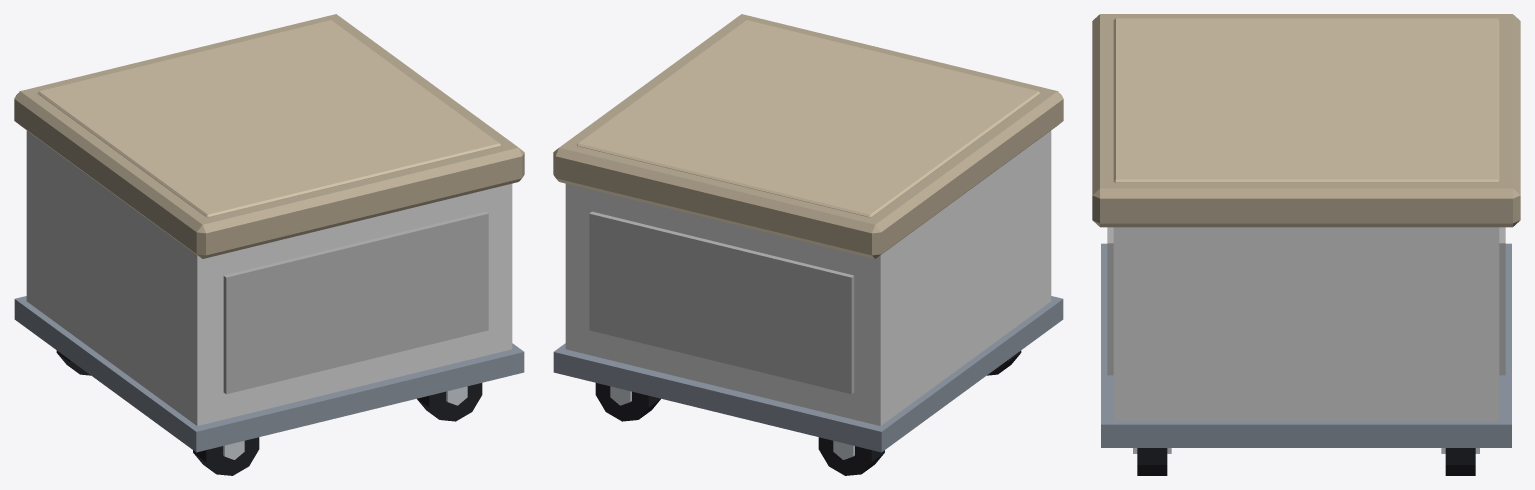
File: counter_cart.glb
3 renders of one model, left to right at view 1: azimuth 30°, elevation 25°; view 2: azimuth 150°, elevation 25°; view 3: azimuth 270°, elevation 25°, orthographic. The views are drawn at different scales.
Parts seen in each view (by area): view 1: cab, top; view 2: cab, top; view 3: top, cab.
Part boxes in pixels (x1,y1,x2,y2): cab: [14, 130, 524, 452]; top: [14, 14, 524, 475]; cab: [553, 130, 1063, 452]; top: [553, 14, 1063, 475]; top: [1092, 14, 1520, 475]; cab: [1101, 227, 1511, 447].
Bounding box in the file's own units: 1 × 0.806 × 1.
